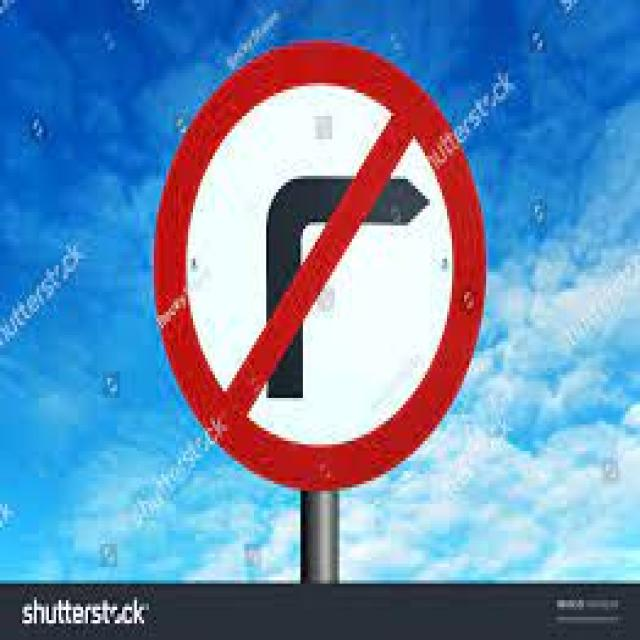RIGHT_TURN_PROHIBITED: (155, 37, 488, 496)
